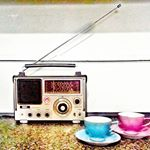cups: (82, 115, 119, 142), (116, 109, 150, 134)
